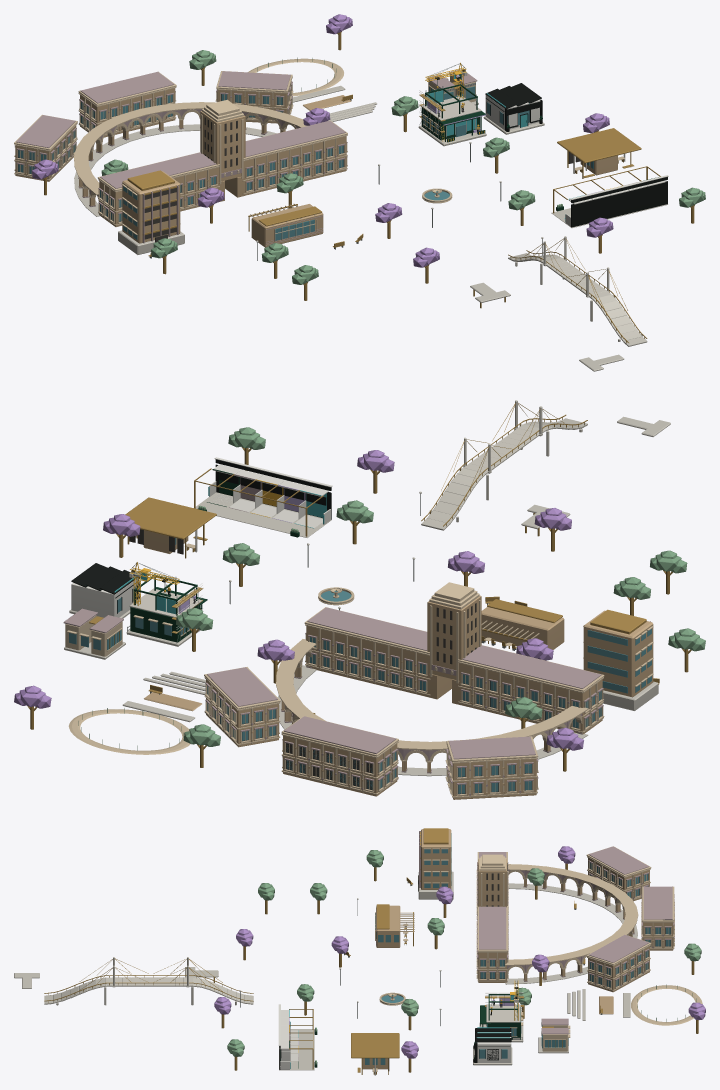
Rendered from campus.glb.
The picture shows the model from 3 angles, top to bottom: view 1: azimuth 30°, elevation 25°; view 2: azimuth 150°, elevation 25°; view 3: azimuth 270°, elevation 25°; orthographic projection. The views are drawn at different scales.
Parts seen in each view (by area): view 1: Campus_SandstoneCream, Campus_Sandstone, Campus_SandstoneViolet, Campus_Concrete, Campus_Bronze, Campus_StudioInk, Campus_Foliage, Campus_RiverBlue, Campus_Jacaranda, Campus_Dark, Campus_StudioWhite, Campus_StudioForest (+1 smaller); view 2: Campus_SandstoneCream, Campus_Sandstone, Campus_SandstoneViolet, Campus_Concrete, Campus_Bronze, Campus_RiverBlue, Campus_Foliage, Campus_Jacaranda, Campus_StudioWhite, Campus_StudioInk, Campus_Dark, Campus_StudioForest (+2 smaller); view 3: Campus_SandstoneCream, Campus_Concrete, Campus_Sandstone, Campus_SandstoneViolet, Campus_Bronze, Campus_Foliage, Campus_RiverBlue, Campus_Jacaranda, Campus_StudioWhite, Campus_StudioInk, Campus_StudioForest, Campus_Dark.
Part boxes in pixels (x1=…): Campus_SandstoneCream: x1=14, y1=58, x2=625, y2=241; Campus_Sandstone: x1=15, y1=88, x2=617, y2=247; Campus_SandstoneViolet: x1=14, y1=69, x2=640, y2=245; Campus_Concrete: x1=74, y1=71, x2=667, y2=371; Campus_Bronze: x1=43, y1=31, x2=694, y2=343; Campus_StudioInk: x1=435, y1=69, x2=667, y2=227; Campus_Foliage: x1=101, y1=50, x2=705, y2=284; Campus_RiverBlue: x1=18, y1=86, x2=593, y2=240; Campus_Jacaranda: x1=31, y1=14, x2=613, y2=267; Campus_Dark: x1=18, y1=79, x2=580, y2=242; Campus_StudioWhite: x1=419, y1=75, x2=668, y2=226; Campus_StudioForest: x1=421, y1=84, x2=658, y2=211; Campus_SandstoneCream: x1=65, y1=543, x2=653, y2=797; Campus_Sandstone: x1=143, y1=530, x2=653, y2=799; Campus_SandstoneViolet: x1=63, y1=474, x2=650, y2=795; Campus_Concrete: x1=64, y1=400, x2=670, y2=776; Campus_Bronze: x1=27, y1=403, x2=691, y2=771; Campus_RiverBlue: x1=69, y1=538, x2=651, y2=793; Campus_Foliage: x1=78, y1=427, x2=705, y2=750; Campus_Jacaranda: x1=14, y1=450, x2=583, y2=750; Campus_StudioWhite: x1=71, y1=457, x2=332, y2=632; Campus_StudioInk: x1=71, y1=459, x2=331, y2=613; Campus_Dark: x1=129, y1=529, x2=601, y2=794; Campus_StudioForest: x1=130, y1=469, x2=299, y2=642; Campus_SandstoneCream: x1=372, y1=846, x2=702, y2=1071; Campus_Concrete: x1=14, y1=871, x2=637, y2=1075; Campus_Sandstone: x1=362, y1=829, x2=673, y2=1069; Campus_SandstoneViolet: x1=289, y1=831, x2=674, y2=1060; Campus_Bronze: x1=44, y1=828, x2=698, y2=1074; Campus_Foliage: x1=227, y1=850, x2=701, y2=1064; Campus_RiverBlue: x1=365, y1=833, x2=670, y2=1064; Campus_Jacaranda: x1=214, y1=846, x2=705, y2=1058; Campus_StudioWhite: x1=278, y1=992, x2=523, y2=1069; Campus_StudioInk: x1=279, y1=987, x2=518, y2=1069; Campus_StudioForest: x1=280, y1=994, x2=520, y2=1068; Campus_Dark: x1=388, y1=865, x2=670, y2=1070.
Bounding box in the file's own units: 112 × 20.69 × 159.
